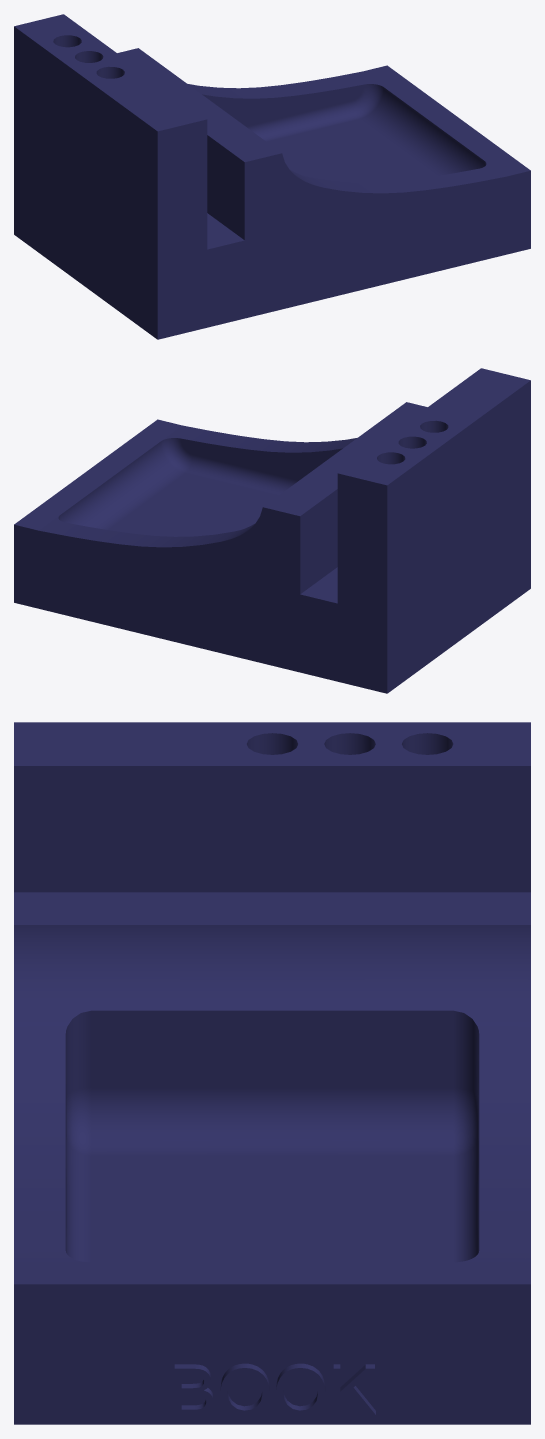
The picture shows the model from 3 angles, top to bottom: view 1: azimuth 30°, elevation 25°; view 2: azimuth 150°, elevation 25°; view 3: azimuth 270°, elevation 25°; orthographic projection. The views are drawn at different scales.
Size of the model in its own units: 0.152 by 0.08 by 0.1.
